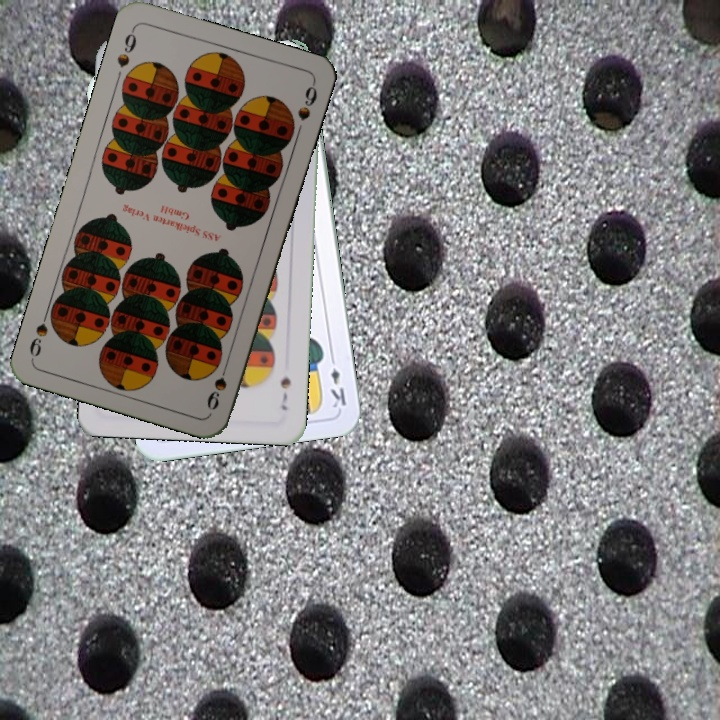EK: (326, 351, 349, 411)
S7: (276, 373, 294, 413)
S9: (202, 356, 232, 413), (112, 24, 139, 70)
